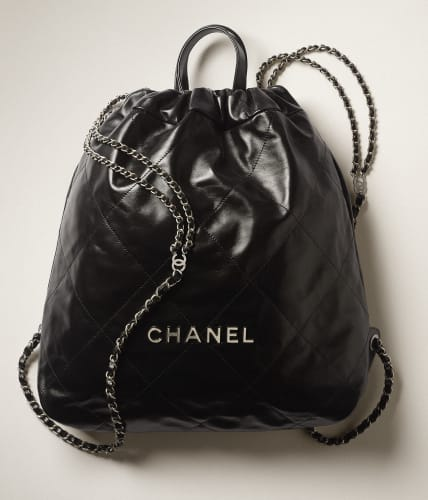channel: (62, 58, 383, 450), (118, 141, 197, 288), (136, 306, 257, 359)
